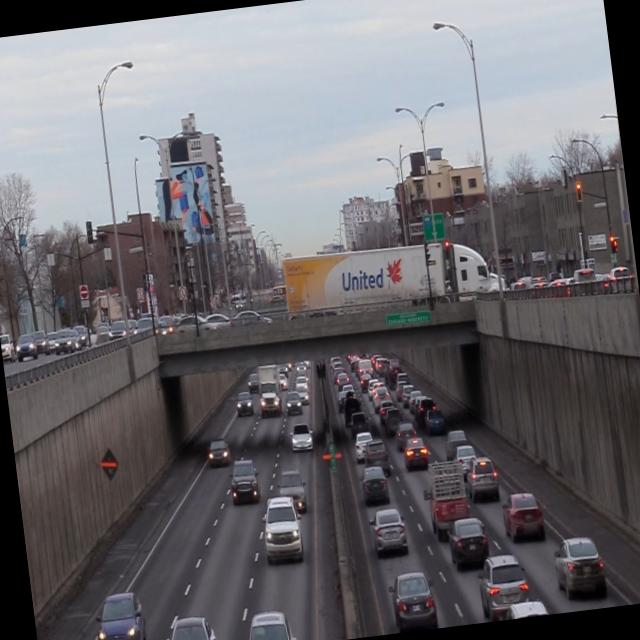Vehicle: (474, 550, 535, 622), (424, 458, 474, 538), (552, 532, 608, 601), (258, 492, 306, 563), (388, 568, 440, 633), (498, 489, 548, 547), (95, 587, 149, 640), (444, 515, 492, 570), (367, 506, 414, 561), (465, 455, 501, 508), (163, 609, 220, 640), (254, 365, 286, 420), (242, 609, 296, 640), (229, 456, 261, 503), (278, 468, 311, 512), (359, 464, 391, 507), (491, 602, 556, 622), (401, 436, 430, 474), (364, 437, 391, 476), (288, 421, 317, 455), (206, 436, 232, 468), (233, 388, 256, 419)
